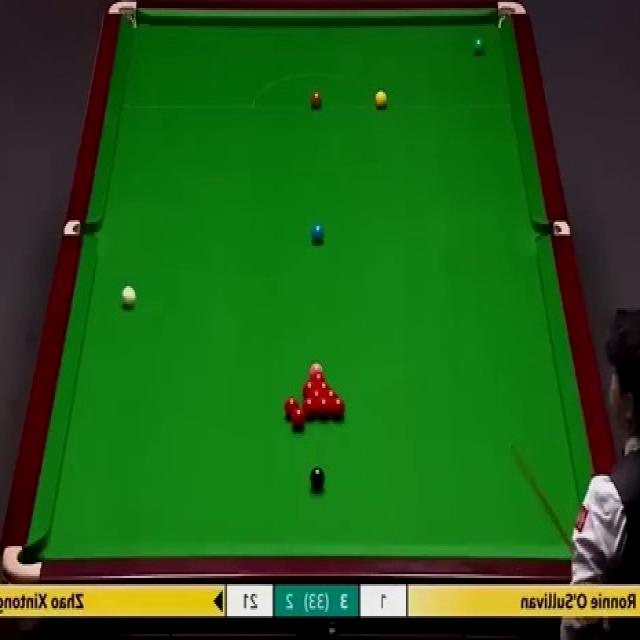pocket: (0, 542, 45, 583), (108, 0, 140, 32), (494, 0, 528, 29), (63, 218, 100, 237), (538, 221, 574, 234)
